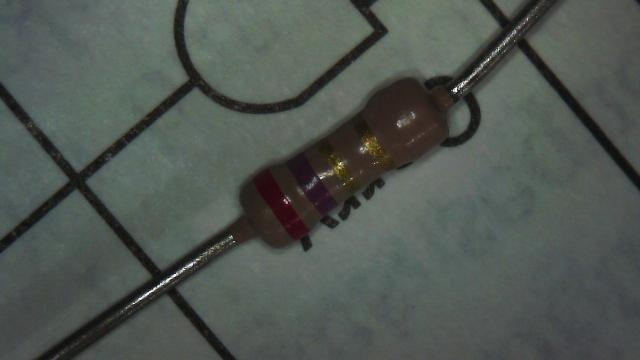gold: (352, 111, 394, 172), (319, 138, 359, 194)
red: (253, 170, 308, 240)
resistor: (205, 42, 481, 273)
violet: (286, 152, 338, 214)
